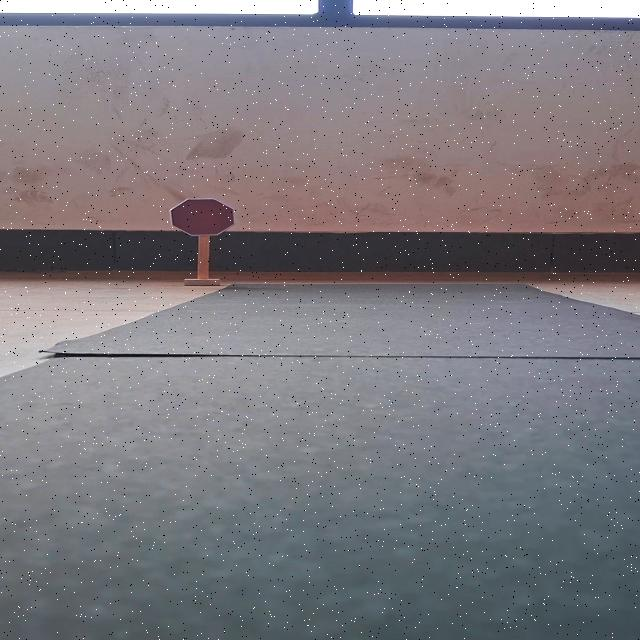Stop: (169, 198, 235, 236)
